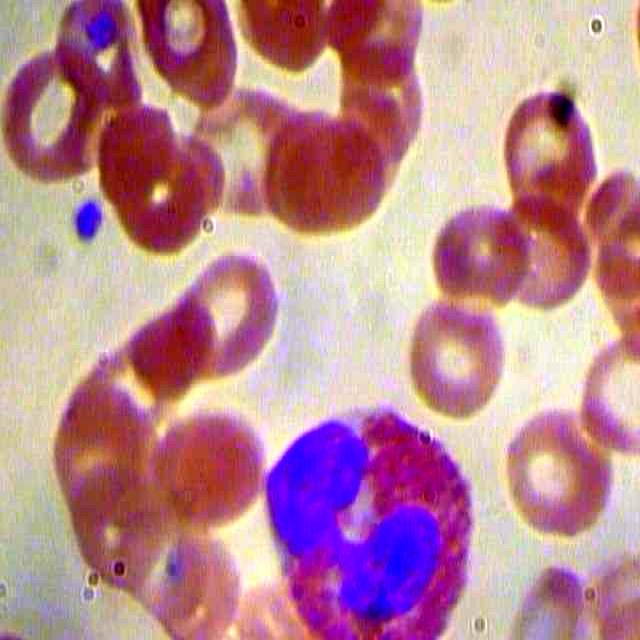Platelets: (66, 192, 111, 251)
RBC: (148, 396, 270, 533), (263, 104, 385, 241), (1, 42, 111, 182), (170, 246, 280, 382), (402, 286, 512, 422), (501, 404, 611, 540), (492, 84, 602, 220), (426, 196, 529, 311), (140, 1, 243, 115)
WBC: (260, 389, 484, 640)
